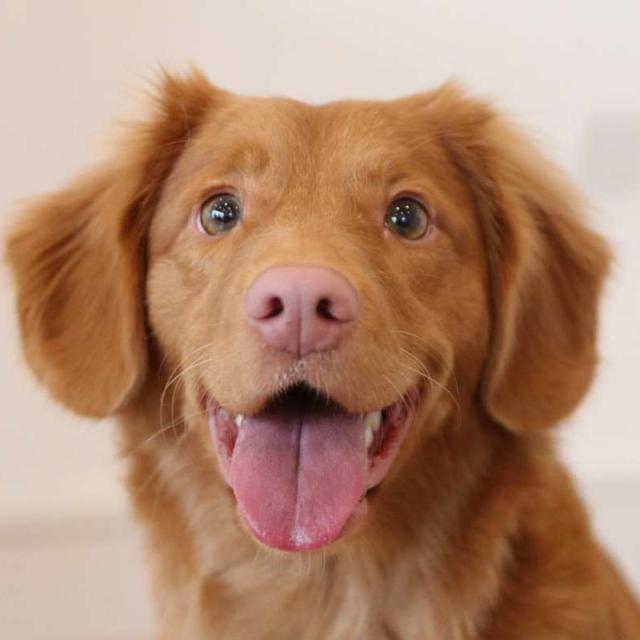Dog: (7, 79, 640, 640)
